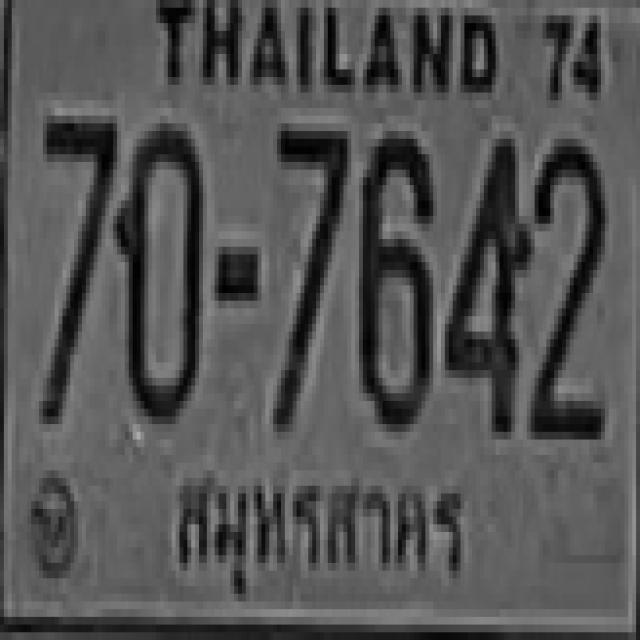0: (117, 116, 199, 416)
2: (527, 131, 601, 432)
4: (441, 131, 527, 432)
6: (355, 123, 429, 424)
7: (39, 108, 113, 416), (272, 123, 346, 424)
SamutSakhon: (168, 444, 480, 598)
